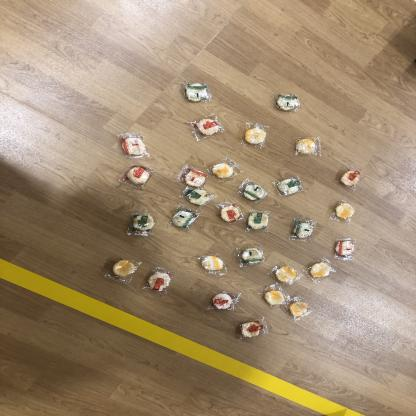green_setoshio: (270, 91, 306, 115), (236, 179, 271, 202), (170, 207, 201, 232), (288, 217, 317, 243), (246, 210, 277, 234), (182, 81, 214, 104), (180, 188, 215, 209), (128, 212, 158, 236), (277, 176, 306, 198), (237, 247, 266, 269)
red_setoshio: (188, 114, 224, 142), (142, 266, 176, 294), (118, 132, 150, 159), (209, 289, 243, 314), (122, 164, 154, 190), (238, 316, 270, 341), (176, 165, 207, 187), (217, 201, 246, 224), (338, 168, 364, 191), (333, 237, 359, 260)
yellow_setoshio: (237, 122, 271, 150), (268, 261, 304, 286), (108, 257, 141, 284), (196, 252, 232, 276), (305, 256, 336, 283), (209, 158, 242, 182), (257, 285, 291, 308), (291, 134, 323, 158), (288, 296, 314, 321), (330, 200, 357, 223)
